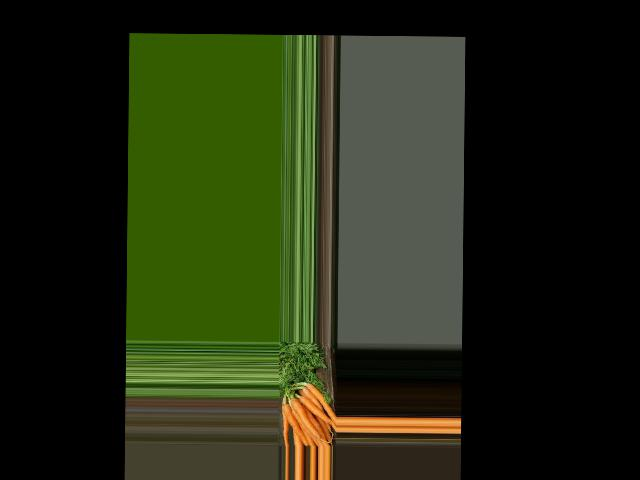carrot: (281, 402, 310, 447)
